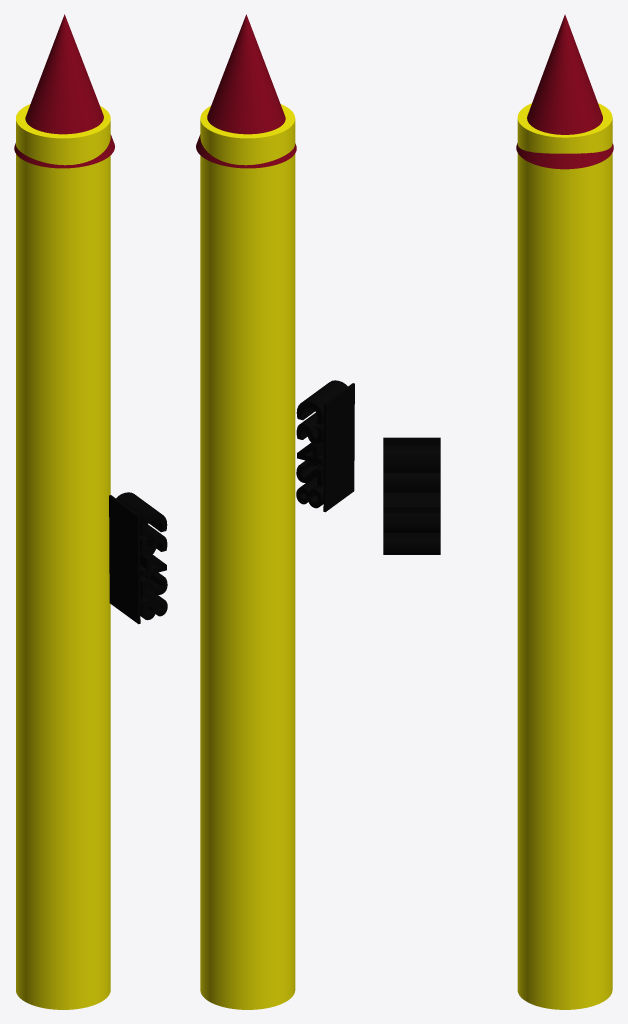
The model's file is pencil.fbx.
The picture shows the model from 3 angles, left to right: view 1: azimuth 30°, elevation 25°; view 2: azimuth 150°, elevation 25°; view 3: azimuth 270°, elevation 25°; orthographic projection.
Visible parts, largest first — view 1: root (×2), node_id39 (×2); view 2: root (×2), node_id39 (×2); view 3: root (×2), node_id39.
Part boxes in pixels (left/top/right/bottom): root (×2): left=14, top=14, right=114, bottom=1009; node_id39 (×2): left=109, top=492, right=167, bottom=624; root (×2): left=196, top=14, right=296, bottom=1009; node_id39 (×2): left=296, top=380, right=354, bottom=512; root (×2): left=516, top=14, right=613, bottom=1009; node_id39: left=383, top=445, right=440, bottom=554.
Size of the model in its own units: 0.0398 by 0.4206 by 0.09.
Materials: 4 (2 with a texture image).
